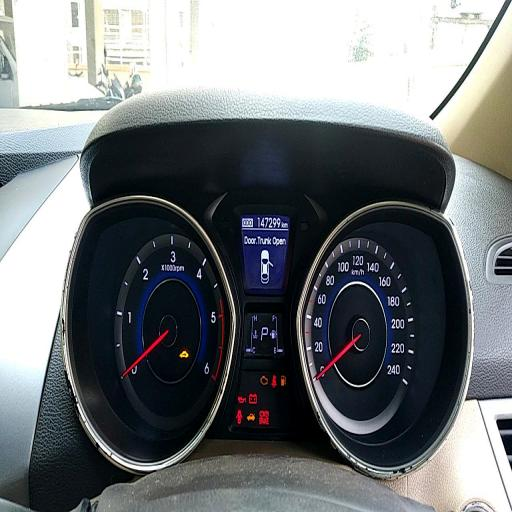belt: (271, 375, 277, 388)
check_engine: (260, 376, 268, 386)
oil: (238, 396, 246, 404)
tachometer: (113, 230, 227, 426)
vehicle_charging: (249, 393, 257, 405)
